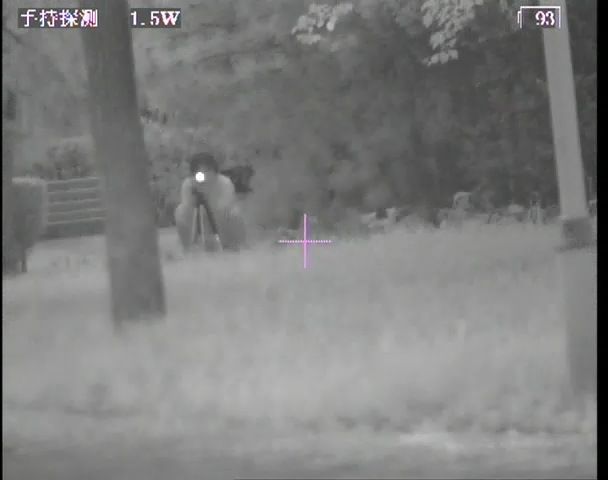my: (193, 172, 207, 183)
